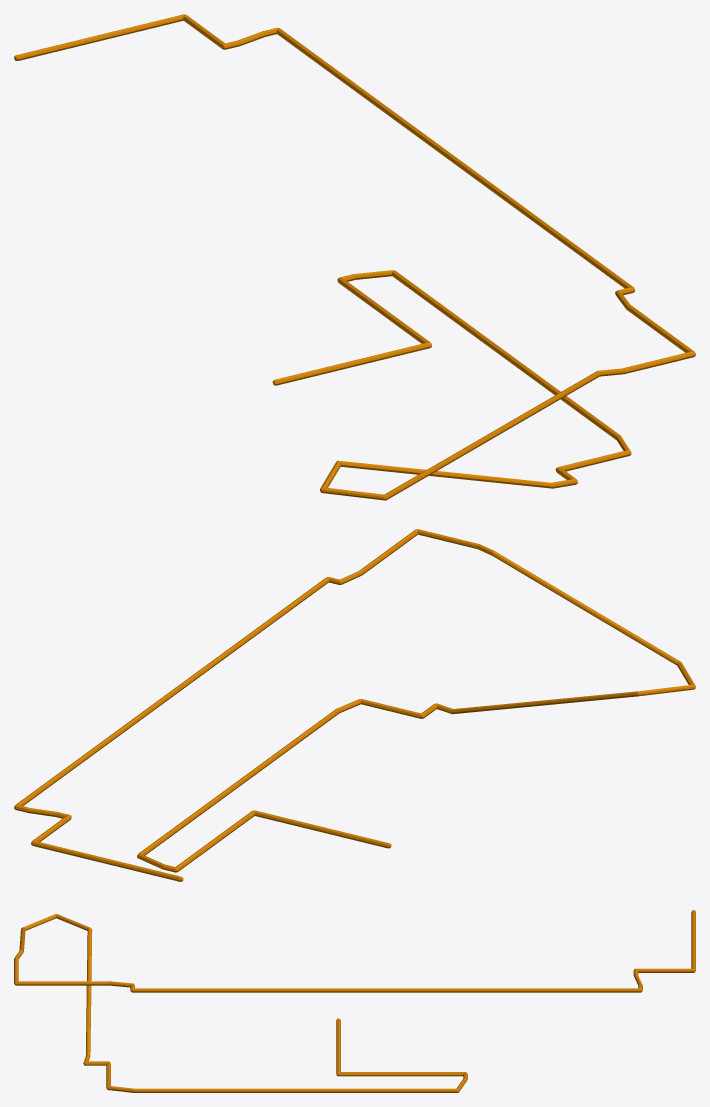
3 renders of one model, top to bottom at view 1: azimuth 30°, elevation 25°; view 2: azimuth 150°, elevation 25°; view 3: azimuth 270°, elevation 25°, orthographic. The views are drawn at different scales.
Bounding box in the file's own units: 1319 × 520 × 2954.
